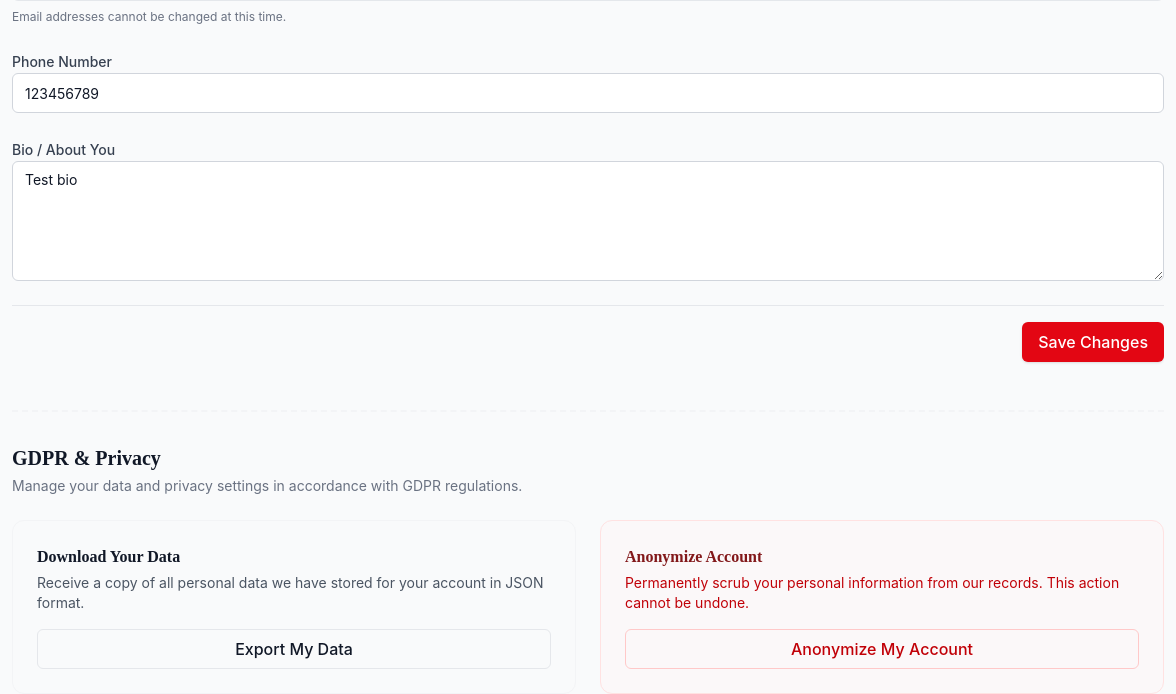
Test: ProfileForm › should handle GDPR export error
This screenshot has width=1176, height=694.
(page scrolled)
Click the button "Export My Data" at (294, 649), box [37, 629, 551, 669]
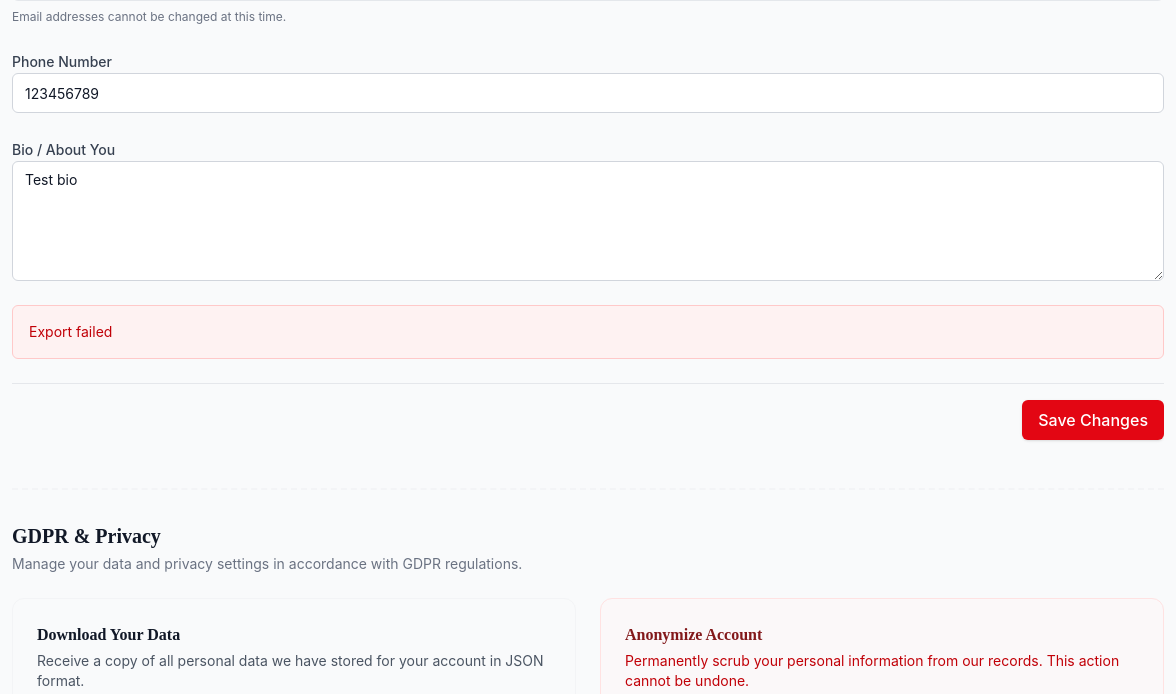
Expected: the text "Export failed" is shown, [12, 305, 1164, 359]
